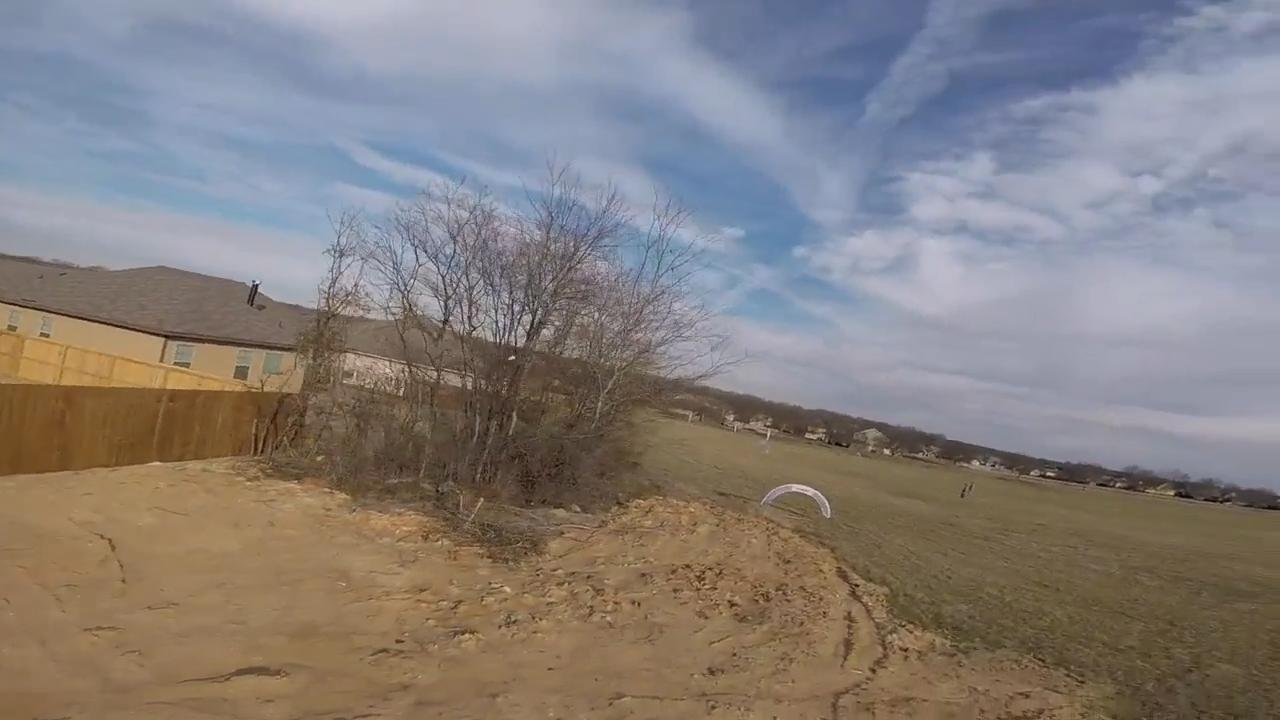gate: (760, 482, 838, 524)
